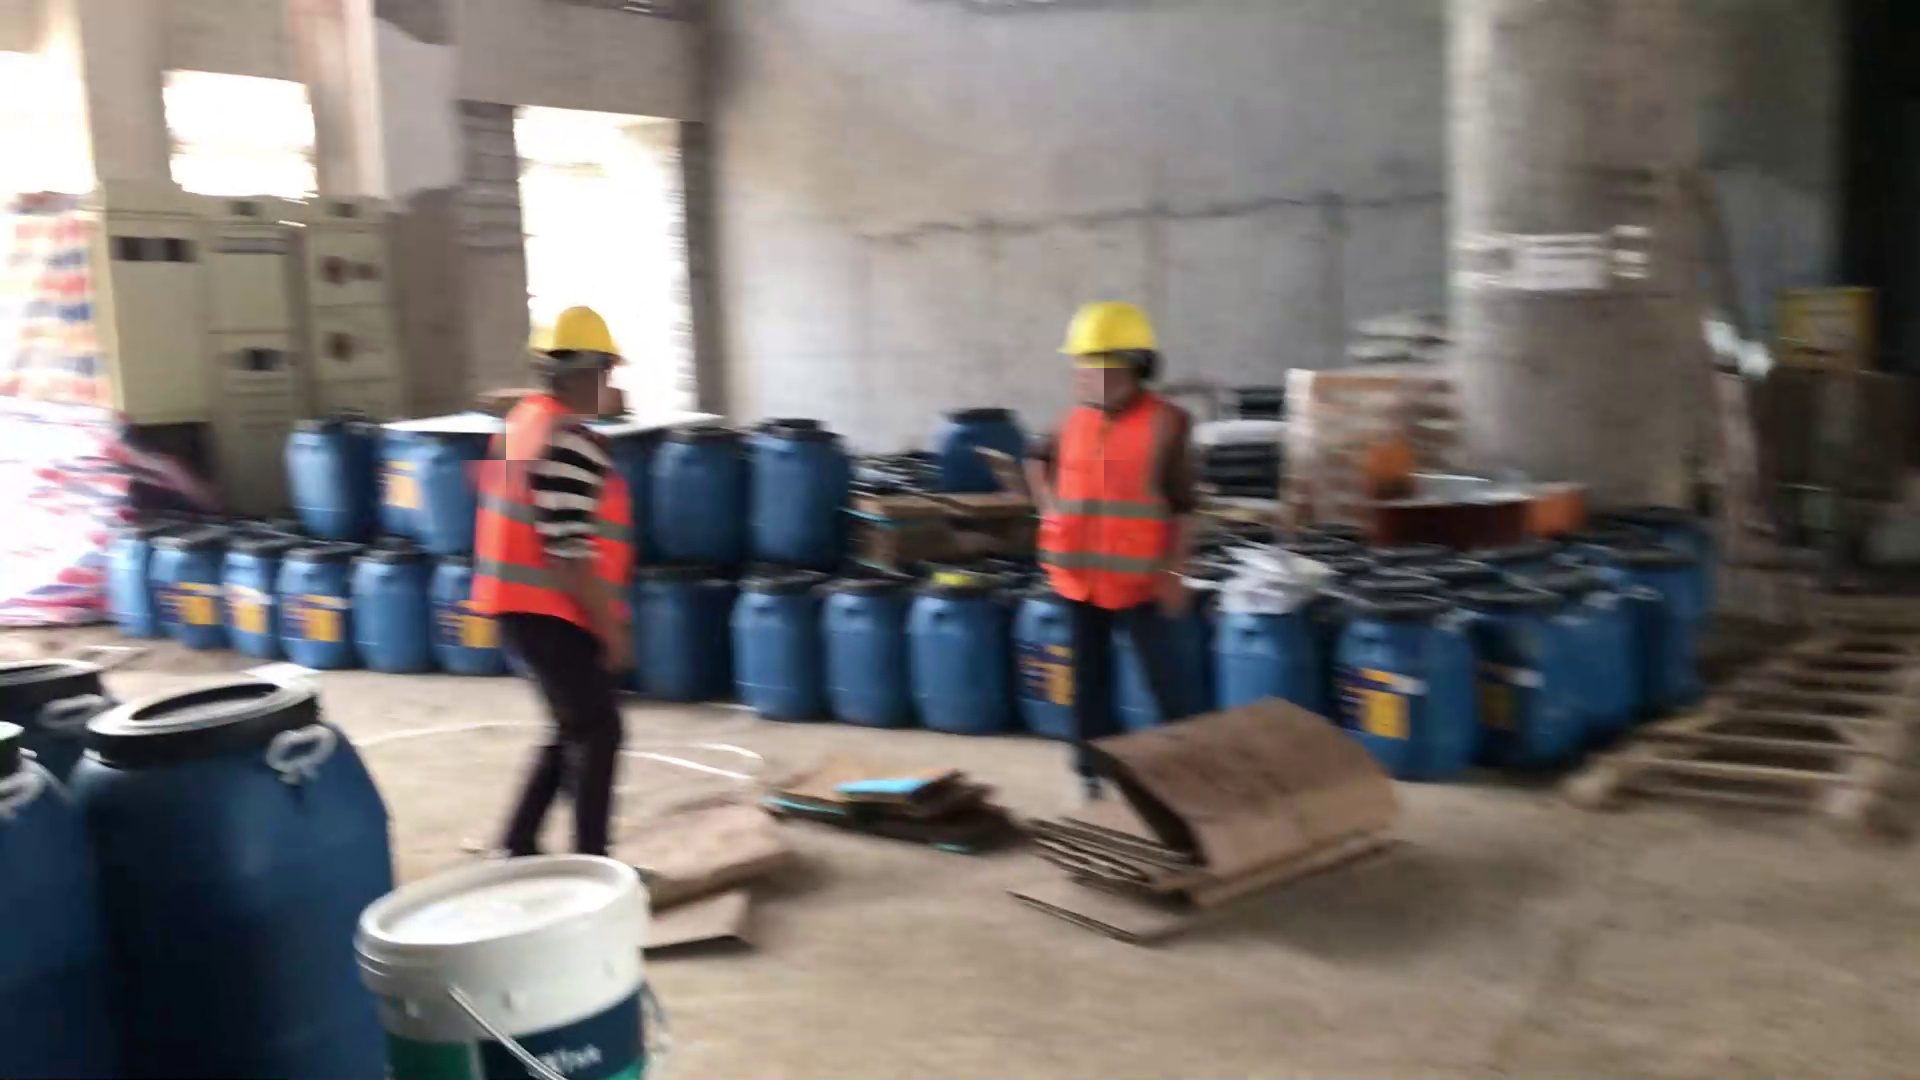helmet: (1055, 294, 1166, 365), (529, 300, 625, 367)
person: (464, 300, 642, 859), (1028, 292, 1203, 804)
vest: (466, 384, 632, 645), (1034, 392, 1195, 613)
